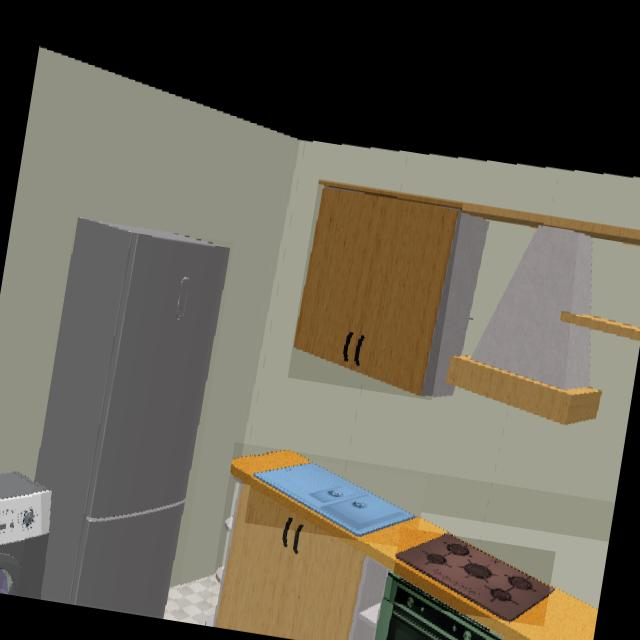cabinet: (213, 484, 598, 640), (292, 183, 462, 399)
countertop: (230, 451, 598, 640)
fridge: (35, 219, 232, 618)
sink: (251, 457, 420, 540)
stove: (396, 534, 550, 621)
